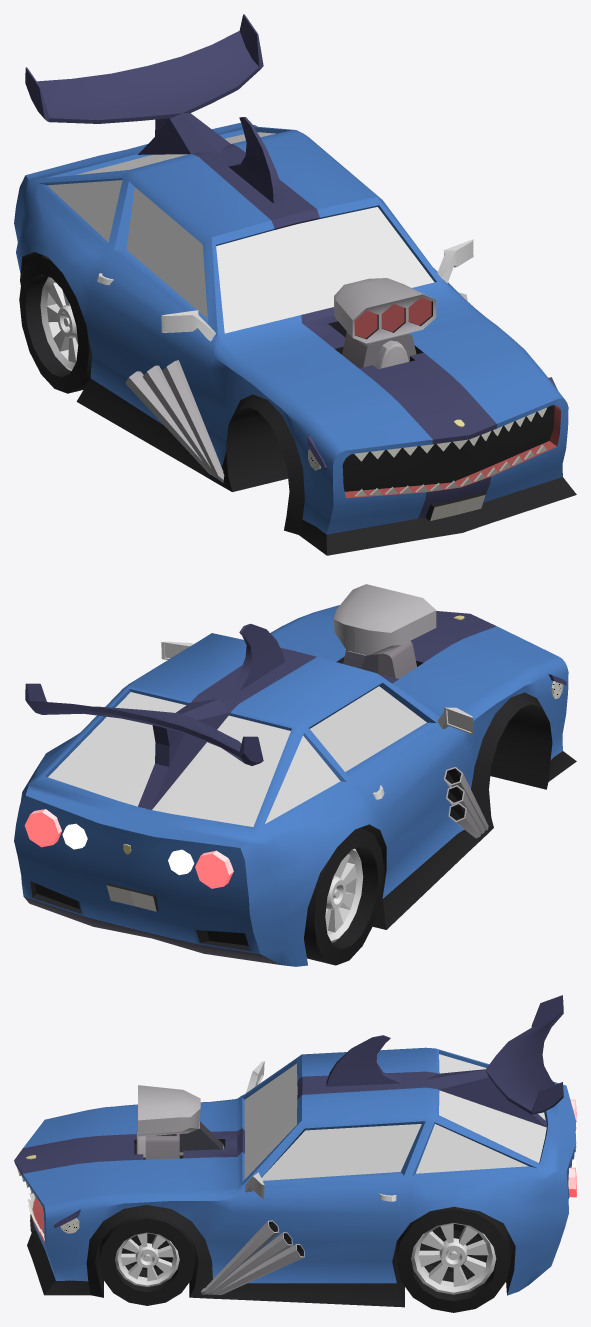
Rendered from makoRS.fbx.
The picture shows the model from 3 angles, top to bottom: view 1: azimuth 30°, elevation 25°; view 2: azimuth 150°, elevation 25°; view 3: azimuth 270°, elevation 25°; orthographic projection. The views are drawn at different scales.
Visible parts, largest first — view 1: Mako RS, shark spoiler, wheel br, exhaust right; view 2: Mako RS, wheel br, shark spoiler, exhaust right; view 3: Mako RS, wheel bl, shark spoiler, wheel fl, exhaust left.
Part boxes in pixels (x1=…): Mako RS: x1=14, y1=117, x2=576, y2=555; shark spoiler: x1=25, y1=14, x2=263, y2=154; wheel br: x1=19, y1=256, x2=91, y2=393; exhaust right: x1=125, y1=360, x2=224, y2=482; Mako RS: x1=14, y1=584, x2=576, y2=966; wheel br: x1=304, y1=828, x2=384, y2=965; shark spoiler: x1=25, y1=683, x2=263, y2=809; exhaust right: x1=444, y1=767, x2=488, y2=838; Mako RS: x1=14, y1=1035, x2=576, y2=1307; wheel bl: x1=396, y1=1206, x2=510, y2=1312; shark spoiler: x1=424, y1=995, x2=563, y2=1127; wheel fl: x1=99, y1=1215, x2=195, y2=1305; exhaust left: x1=201, y1=1220, x2=304, y2=1294.
Bounding box in the file's own units: 3.15 × 5.52 × 2.36.
